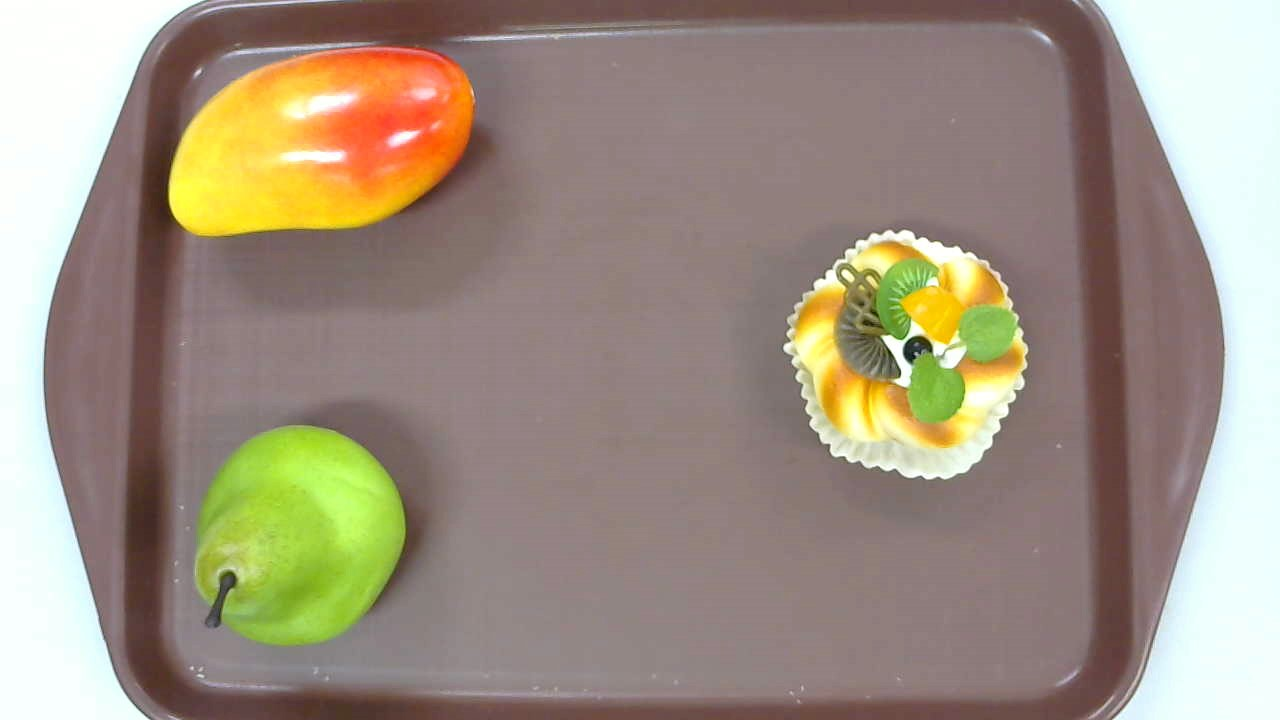fruit tower: (783, 228, 1028, 481)
green pear: (191, 426, 408, 647)
red mango: (167, 45, 476, 239)
